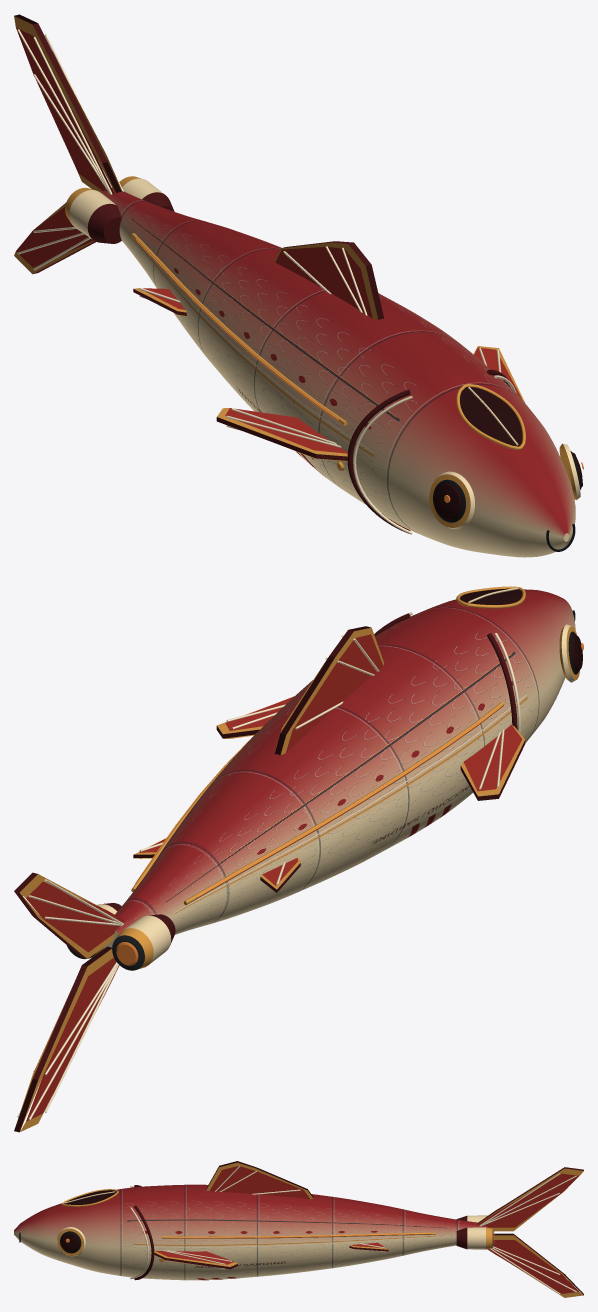
The picture shows the model from 3 angles, top to bottom: view 1: azimuth 30°, elevation 25°; view 2: azimuth 150°, elevation 25°; view 3: azimuth 270°, elevation 25°; orthographic projection. The views are drawn at different scales.
Visible parts, largest first — view 1: sardine_hull; view 2: sardine_hull; view 3: sardine_hull.
Boxes of the visible parts, x1=… form: sardine_hull: x1=14, y1=14, x2=583, y2=557; sardine_hull: x1=14, y1=586, x2=583, y2=1132; sardine_hull: x1=14, y1=1161, x2=583, y2=1297.
Size of the model in its own units: 4.8 by 4.25 by 16.2.
1 material, 1 textured.
